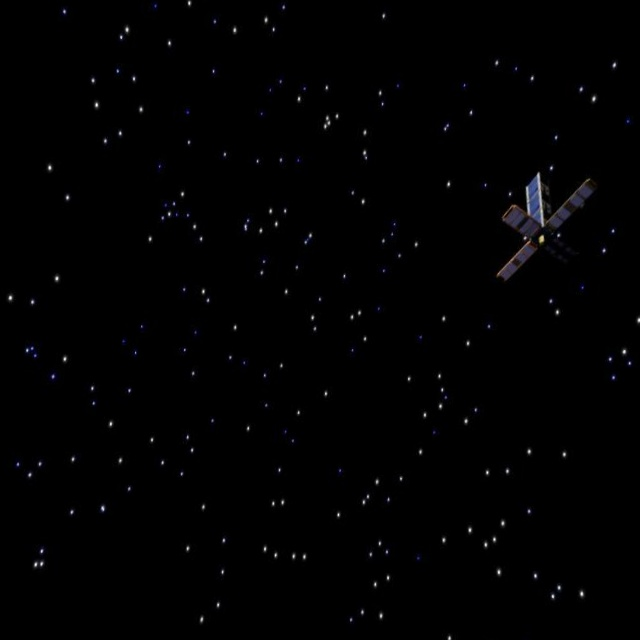satellite: (479, 147, 600, 292)
